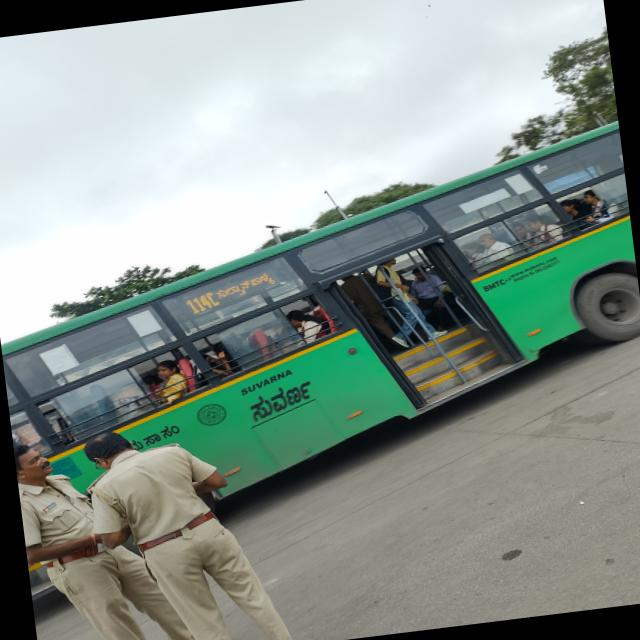bus: (0, 119, 640, 526)
display: (161, 258, 293, 320)
dnumber: (178, 288, 224, 315)
